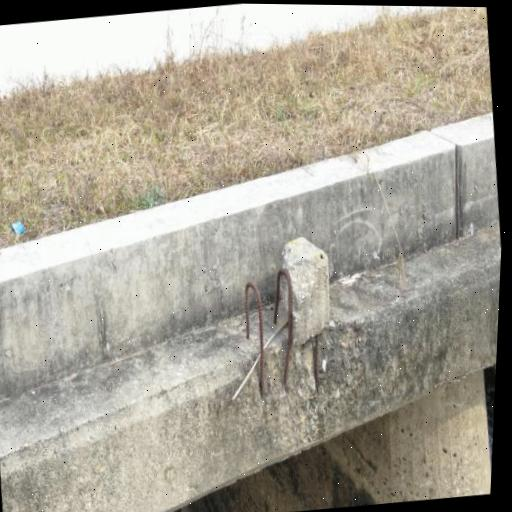exposed_rebar: (273, 269, 293, 390), (245, 281, 265, 397), (314, 335, 319, 392)
